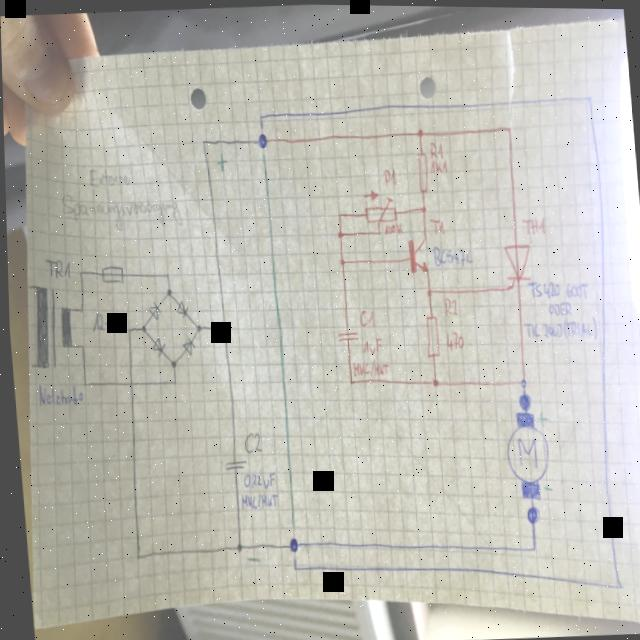capacitor: (333, 327, 358, 343), (220, 457, 245, 470)
crossover: (125, 379, 133, 387)
diode: (178, 334, 194, 356), (173, 298, 188, 319), (149, 335, 164, 356), (145, 298, 159, 320)
junction: (414, 125, 424, 137), (516, 374, 525, 387), (232, 541, 241, 553), (335, 228, 344, 238), (428, 376, 437, 386), (167, 359, 176, 369), (503, 122, 512, 132), (218, 322, 226, 332), (424, 287, 432, 295), (527, 542, 534, 551), (138, 323, 145, 332), (193, 323, 200, 332), (418, 204, 425, 212), (337, 256, 344, 264), (164, 288, 170, 297), (335, 209, 341, 217), (124, 326, 130, 334), (170, 378, 176, 386), (77, 342, 83, 350), (76, 305, 82, 313), (80, 379, 86, 387), (200, 137, 206, 145), (346, 377, 352, 384), (131, 552, 137, 559), (163, 271, 169, 278), (374, 228, 380, 234), (77, 269, 82, 275)
resistor: (360, 193, 397, 226), (421, 311, 440, 358), (414, 148, 429, 192)
terminal: (25, 283, 30, 290), (27, 362, 31, 368)
text: (58, 186, 183, 235), (520, 313, 596, 342), (524, 276, 588, 301), (34, 381, 81, 408), (429, 241, 473, 268), (86, 165, 130, 189), (349, 355, 388, 378), (87, 309, 125, 332), (41, 255, 71, 281), (236, 490, 276, 509), (238, 470, 274, 490), (519, 214, 545, 234), (544, 298, 572, 316), (442, 329, 464, 351), (240, 430, 260, 453), (358, 336, 381, 355), (426, 215, 445, 235), (427, 156, 448, 174), (440, 294, 458, 315), (356, 307, 374, 328), (428, 138, 444, 159), (381, 165, 396, 187), (381, 220, 402, 235)
thyristor: (500, 241, 532, 289)
transformer: (27, 282, 75, 370)
transistor: (405, 233, 430, 274)
